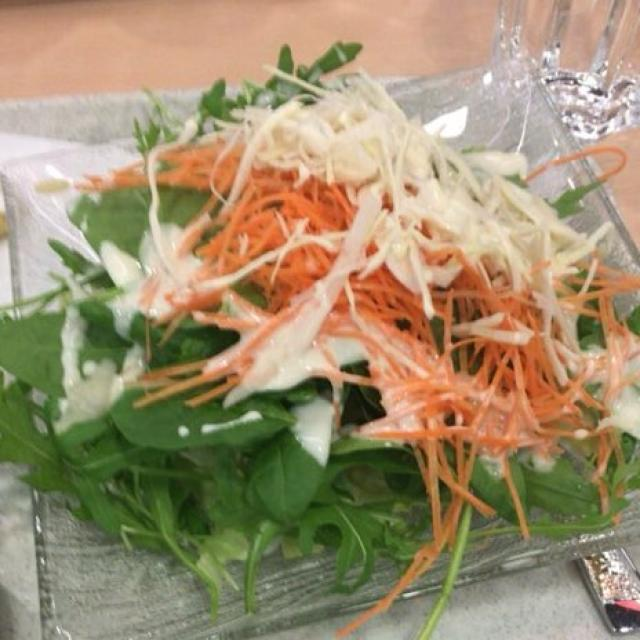coleslaw-chopped-without-sauce: (73, 74, 636, 586)
french-salad-dressing: (54, 136, 606, 462)
mixed-salad-chopped-without-sauce: (12, 42, 636, 616)
